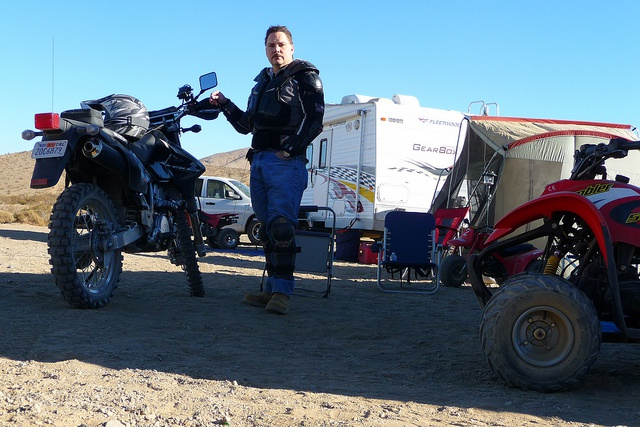non-vehicle: (23, 80, 229, 307), (476, 134, 639, 395), (194, 185, 240, 249)
